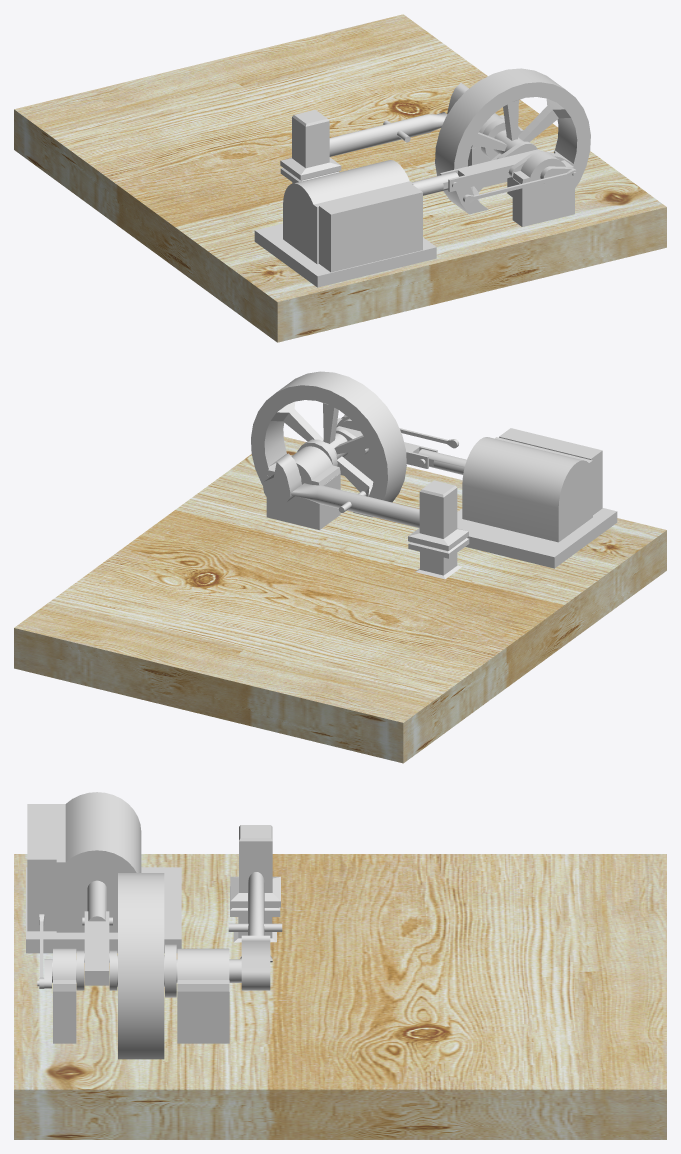
The model's file is tmSteamEnginecm.dae.
3 renders of one model, top to bottom at view 1: azimuth 30°, elevation 25°; view 2: azimuth 150°, elevation 25°; view 3: azimuth 270°, elevation 25°, orthographic. The views are drawn at different scales.
Parts seen in each view (by area): view 1: floor, flywheel, control, engine, socket, hammer, bear2-bot, shaft, crank, connection, bear2-top, rod (+1 smaller); view 2: floor, engine, flywheel, socket, hammer, shaft, crank, control, bear1-bot, bear1-top, ambos, piston (+1 smaller); view 3: floor, engine, flywheel, control, crank, socket, hammer, bear1-bot, bear1-top, connection, bear2-bot, shaft (+3 smaller).
Boxes of the visible parts, x1,y1,x2,y2 form: floor: [14, 14, 666, 342]; flywheel: [435, 68, 590, 214]; control: [319, 183, 422, 272]; engine: [283, 160, 413, 264]; socket: [254, 223, 436, 287]; hammer: [280, 109, 341, 180]; bear2-bot: [512, 177, 574, 226]; shaft: [329, 112, 447, 156]; crank: [447, 83, 577, 186]; connection: [440, 149, 540, 191]; bear2-top: [512, 151, 574, 183]; rod: [463, 168, 578, 203]; floor: [14, 436, 666, 763]; engine: [462, 437, 592, 542]; flywheel: [251, 371, 406, 517]; socket: [457, 508, 617, 568]; hammer: [408, 480, 468, 551]; shaft: [291, 483, 419, 528]; crank: [263, 415, 368, 504]; control: [499, 428, 602, 514]; bear1-bot: [266, 473, 340, 529]; bear1-top: [267, 446, 340, 485]; ambos: [408, 538, 469, 579]; piston: [418, 449, 466, 474]; floor: [14, 854, 666, 1139]; engine: [56, 792, 141, 932]; flywheel: [117, 873, 164, 1059]; control: [27, 804, 56, 931]; crank: [37, 935, 270, 997]; socket: [26, 867, 181, 953]; hammer: [230, 825, 280, 907]; bear1-bot: [177, 980, 229, 1043]; bear1-top: [177, 948, 229, 991]; connection: [84, 911, 109, 985]; bear2-bot: [53, 991, 76, 1043]; shaft: [240, 872, 272, 962].
Bounding box in the file's own units: 13.61 × 15.94 × 5.27.
